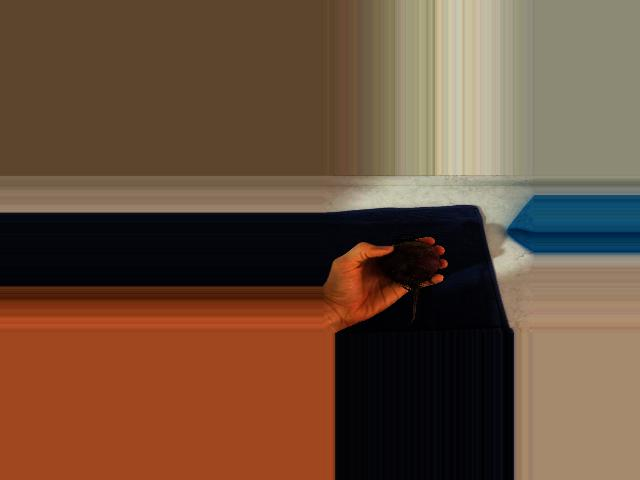beet: (382, 234, 440, 325)
